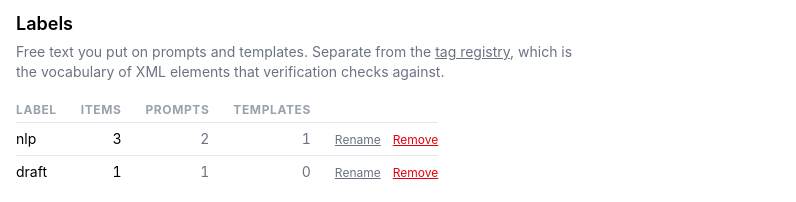
Test: Labels › will not submit an empty new name
Click the button with aria-label "Rename nlp" at (358, 140), box [335,132,381,148]
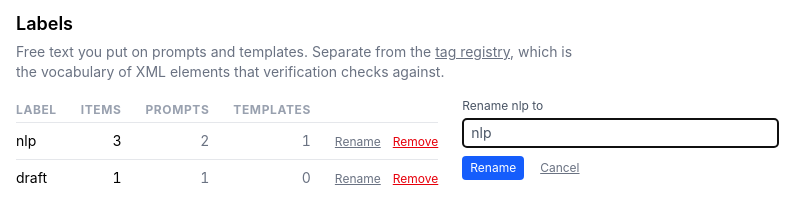
Clear the field at (621, 133), box [462,118,779,148]
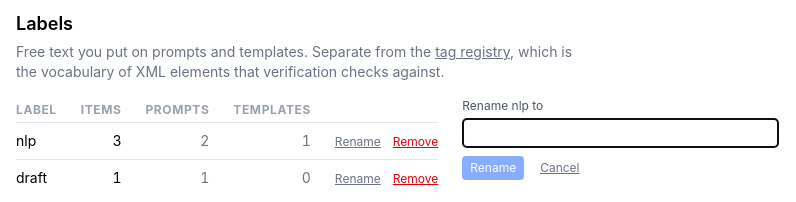
Expected: the button "Rename" below "to" is disabled, [462,156,524,180]
